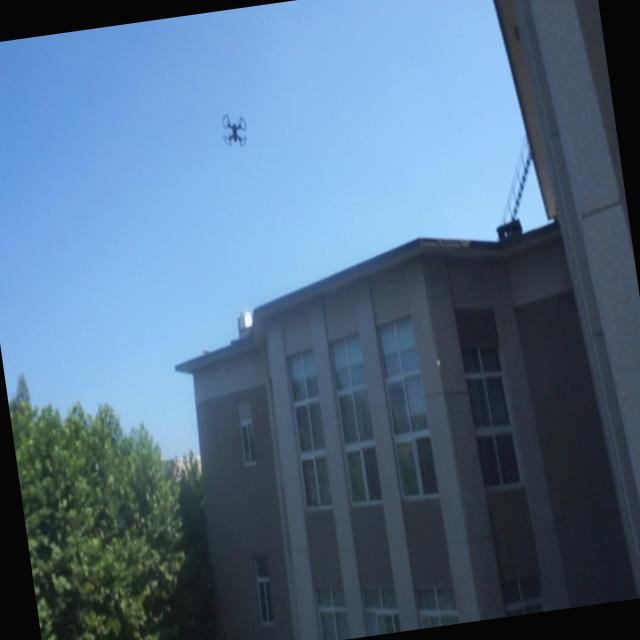drone: (218, 108, 252, 154)
